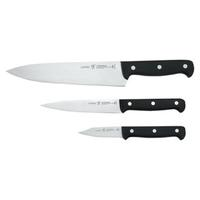knife: (3, 55, 198, 89), (34, 95, 191, 120), (70, 123, 191, 146)
